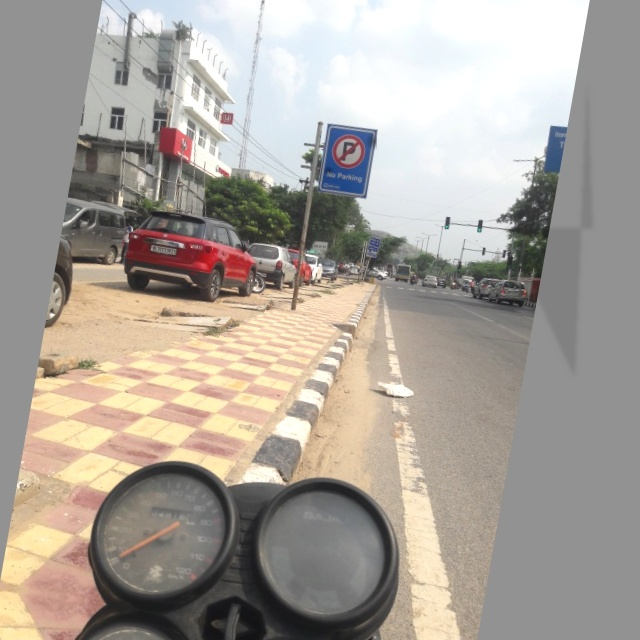No_Parking: (322, 123, 377, 177)
